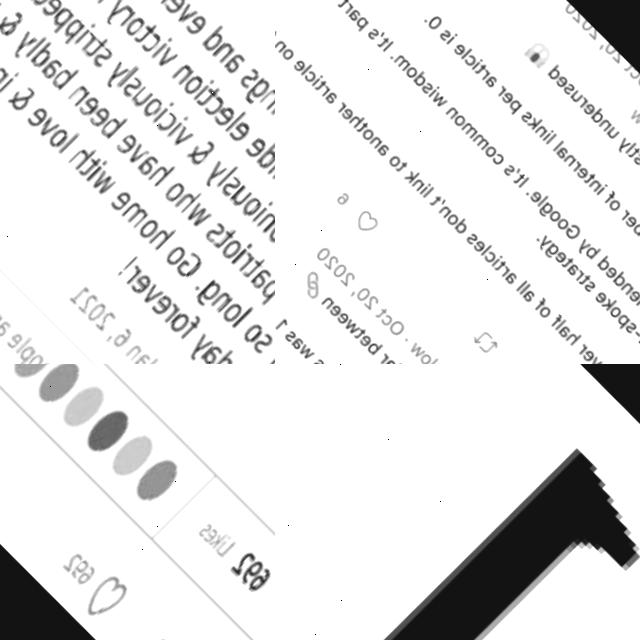0: (77, 298, 102, 323)
1: (59, 281, 84, 305)
2: (219, 546, 252, 577), (68, 289, 95, 314), (53, 550, 78, 573), (86, 308, 110, 331), (330, 187, 349, 206)
3: (137, 635, 162, 640)
6: (237, 563, 268, 592), (66, 562, 92, 588), (103, 324, 128, 348)
9: (226, 553, 261, 586), (60, 556, 84, 579)
L: (275, 379, 640, 640)
